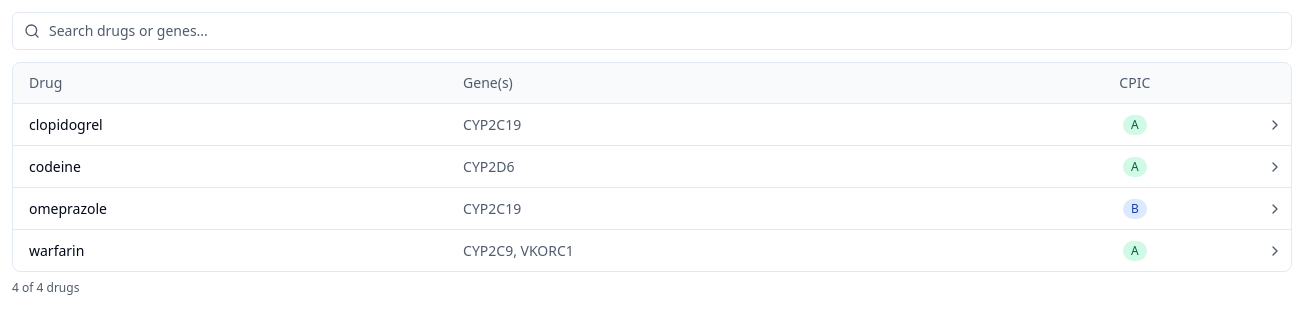
Test: DrugTable › filters drugs by search
Type "clop" into the field labelled "Search drugs or genes" at (652, 31), box [12,12,1292,50]
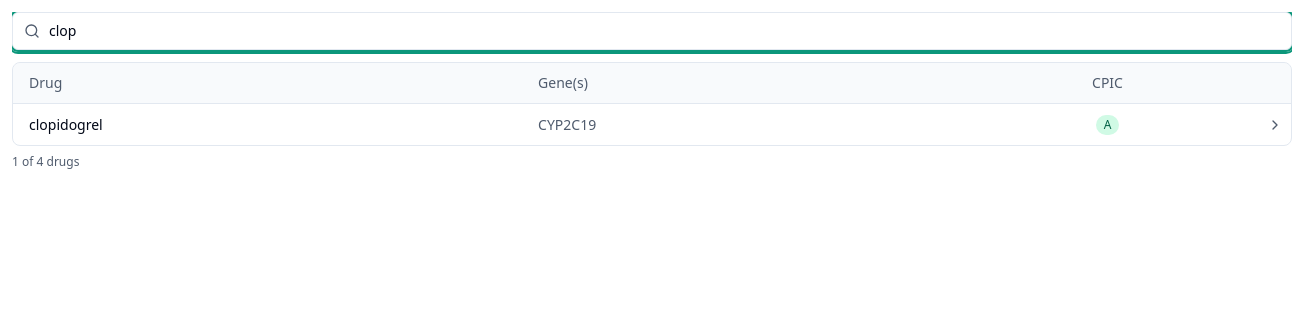
Check: the text "clopidogrel" is shown, box [13,104,522,145]
Check: the text "codeine" is gone
Check: the text "1 of 4 drugs" is shown, box [12,153,79,170]
